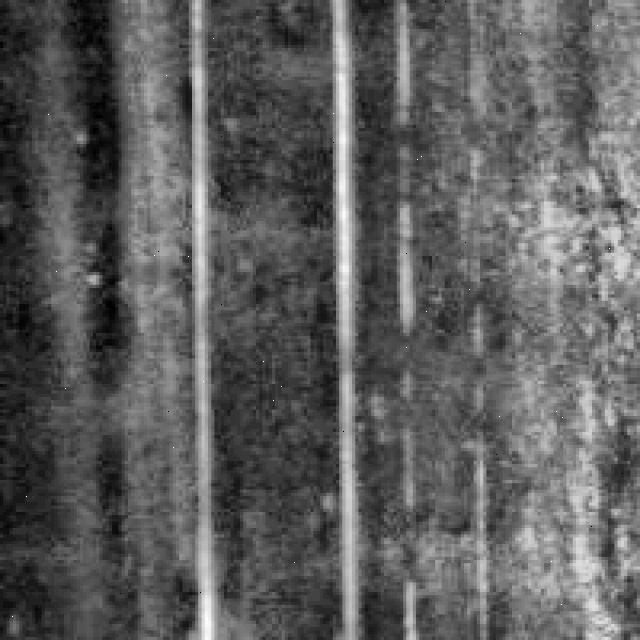Inclusion: (183, 0, 234, 630), (330, 0, 374, 627)
